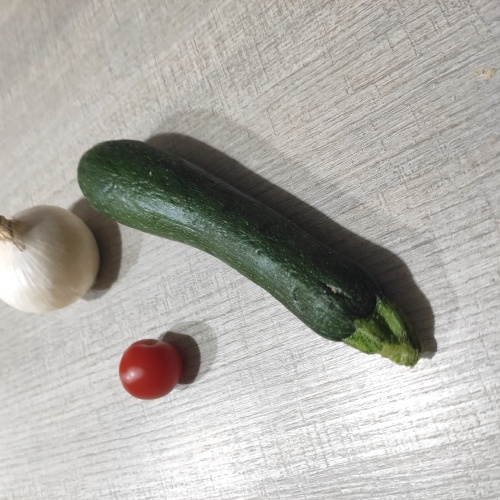cipolla: (7, 203, 100, 318)
pomodoro: (115, 335, 191, 399)
zucchine: (87, 136, 451, 344)
